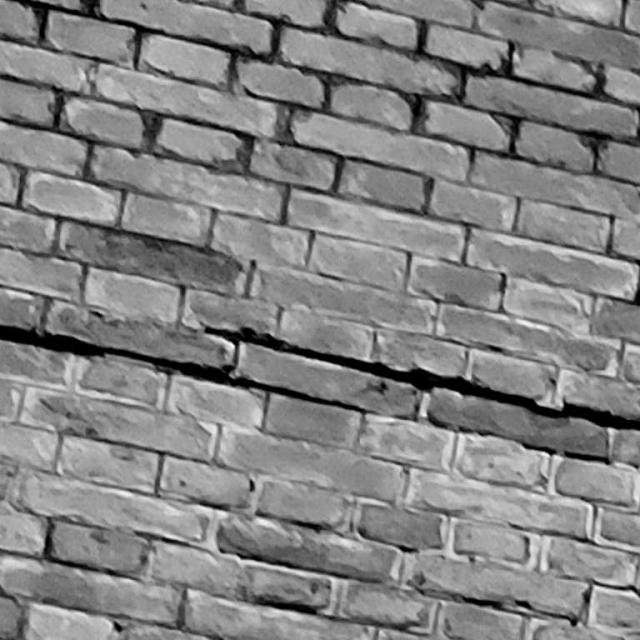crack: (202, 326, 640, 430), (1, 323, 248, 389), (522, 444, 610, 464)
